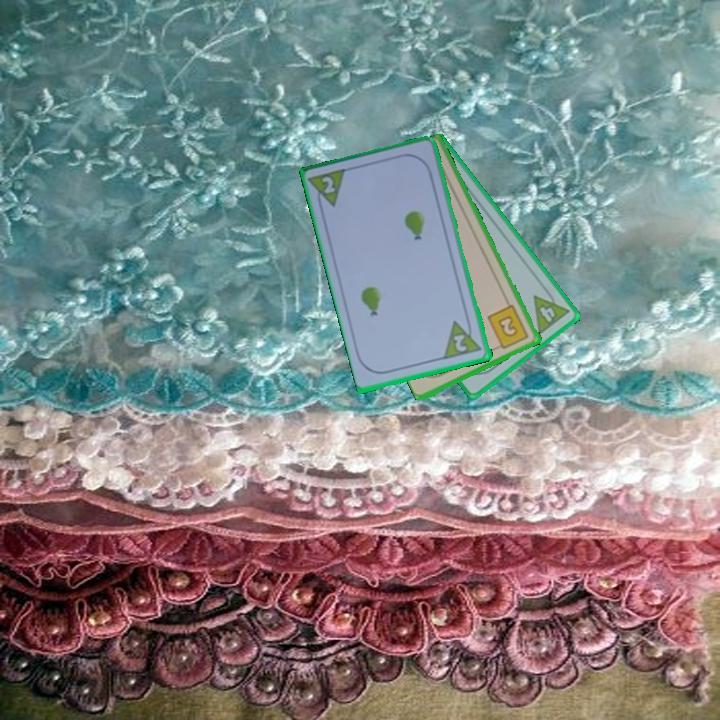2b: (484, 302, 532, 352)
2p: (306, 165, 350, 214), (441, 315, 485, 362)
4p: (530, 284, 572, 338)
